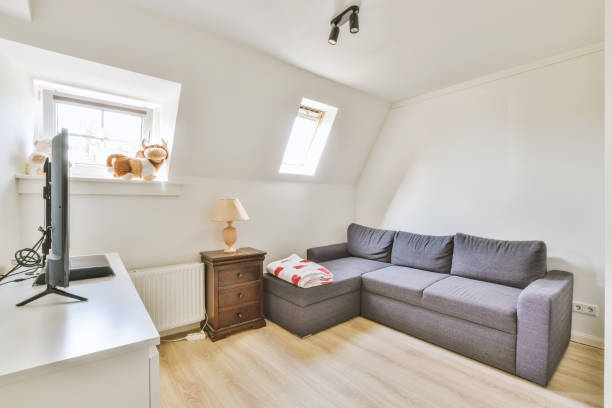TV: (18, 128, 88, 309)
TV stand: (0, 252, 163, 408)
sofa: (263, 222, 575, 389)
table lamp: (207, 193, 250, 253)
